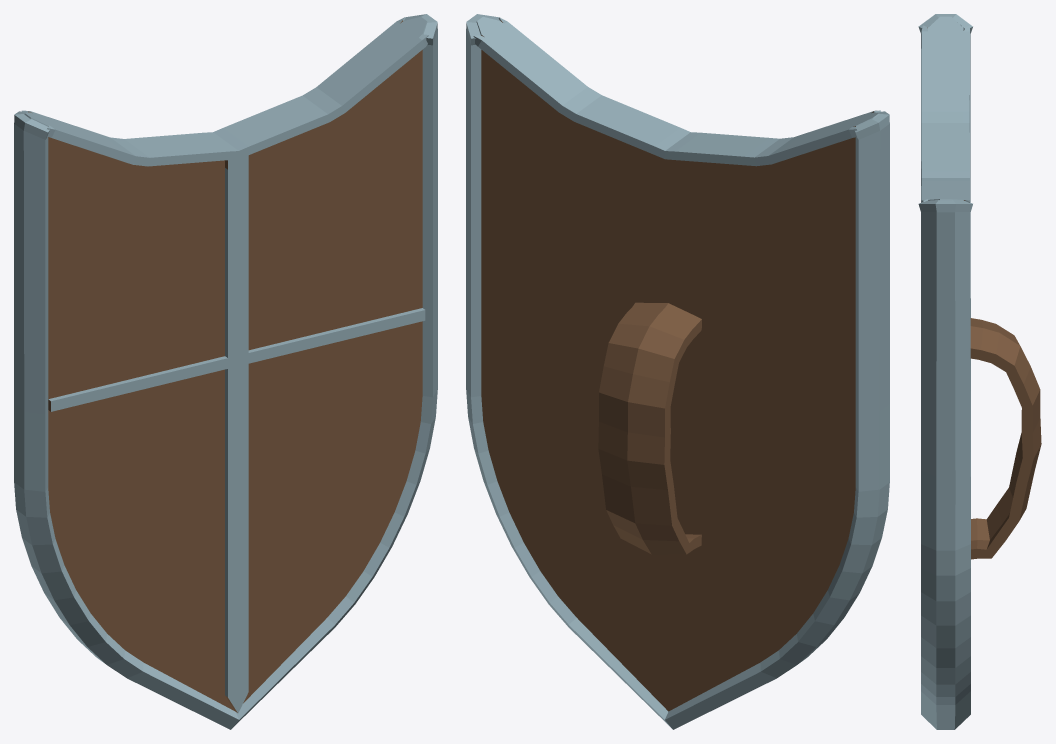
Rendered from shield.fbx.
3 views of the same model, side by side, from view 1: azimuth 30°, elevation 25°; view 2: azimuth 150°, elevation 25°; view 3: azimuth 270°, elevation 25° (orthographic). The views are drawn at different scales.
Visible parts, largest first — view 1: Shield; view 2: Shield; view 3: Shield.
Part boxes in pixels (x1,y1,x2,y2): Shield: (14,14,437,729); Shield: (466,14,889,729); Shield: (918,14,1041,729).
Size of the model in its own units: 303 by 461 by 82.74.
Materials: 1 (1 with a texture image).
